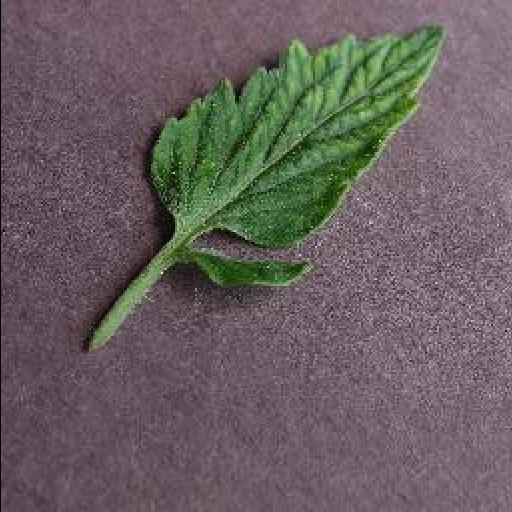Mosaic Virus: (148, 20, 450, 291)
